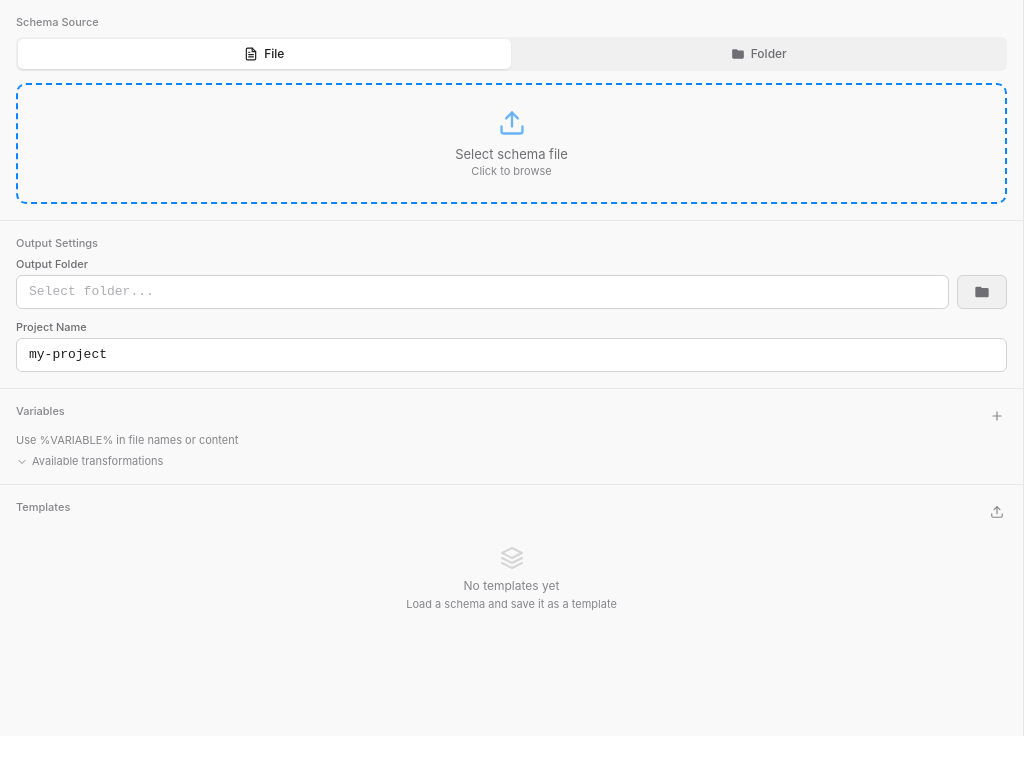
Test: LeftPanel › Schema Source Section › source type toggle › switches to Folder mode when clicked
Click the button "Folder".
click(759, 54)  # box x1=512 y1=39 x2=1005 y2=69
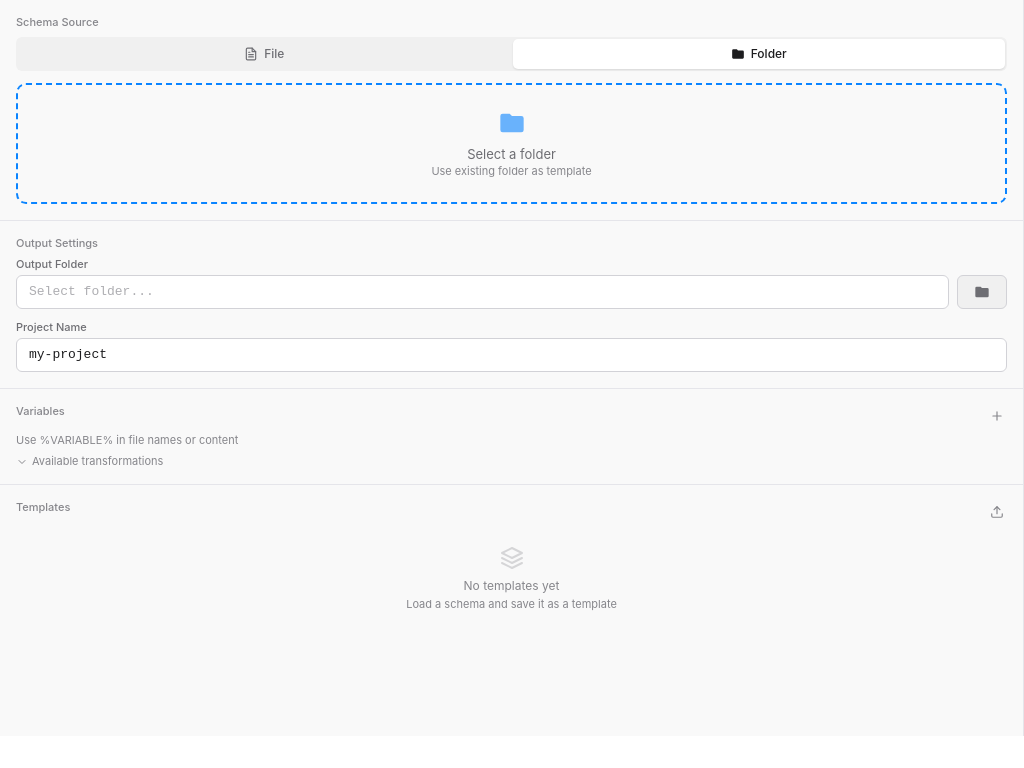
Result: the text "Select a folder" is shown at x1=467 y1=146 x2=556 y2=162
